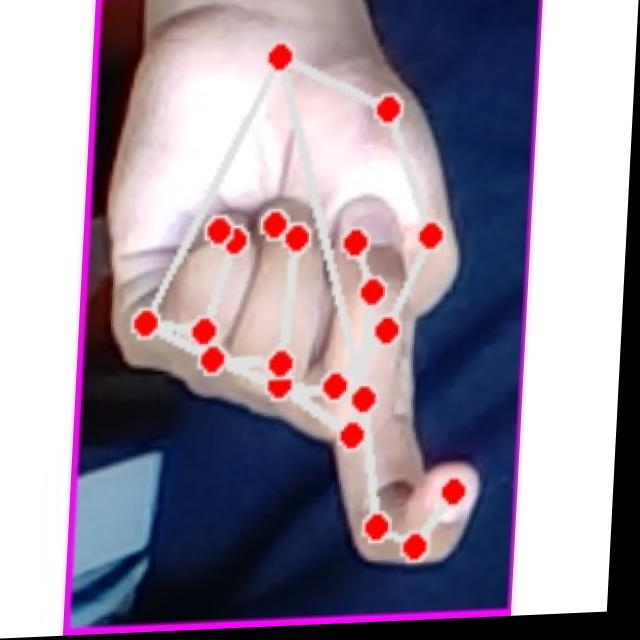Z: (89, 14, 510, 591)
